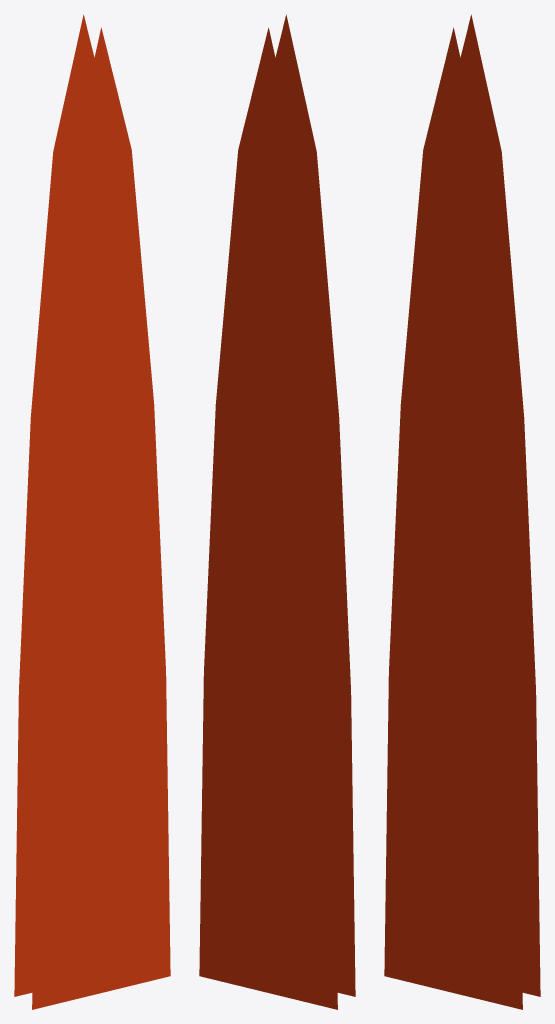
The model's file is grass 2.fbx.
3 views of the same model, side by side, from view 1: azimuth 30°, elevation 25°; view 2: azimuth 150°, elevation 25°; view 3: azimuth 330°, elevation 25° (orthographic).
Visible parts, largest first — view 1: Plane; view 2: Plane; view 3: Plane.
Part boxes in pixels (x1,y1,x2,y2): Plane: (14,14,170,1009); Plane: (199,14,355,1009); Plane: (384,14,540,1009).
Size of the model in its own units: 6.02 by 40.12 by 1.33.
